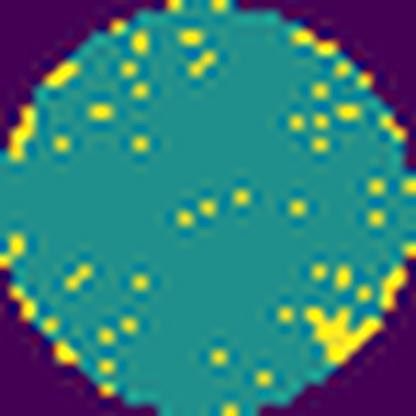Edge-Loc: (306, 300, 383, 360), (375, 265, 408, 316)
